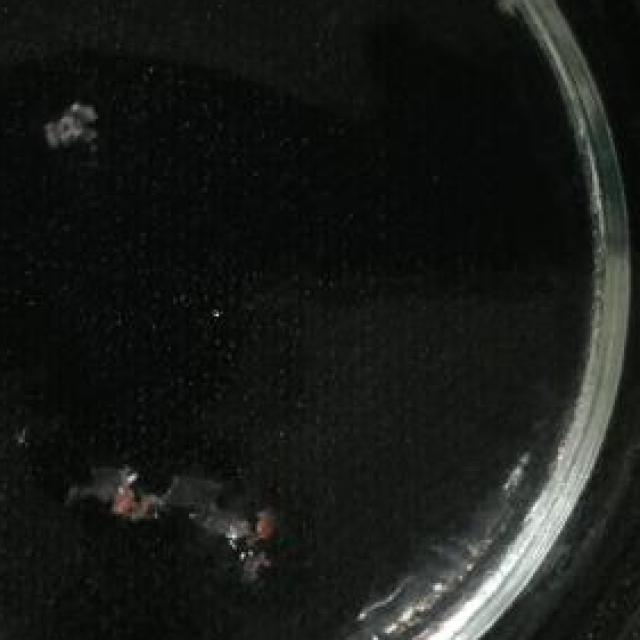Microplastic: (70, 452, 282, 592), (46, 93, 94, 157)
